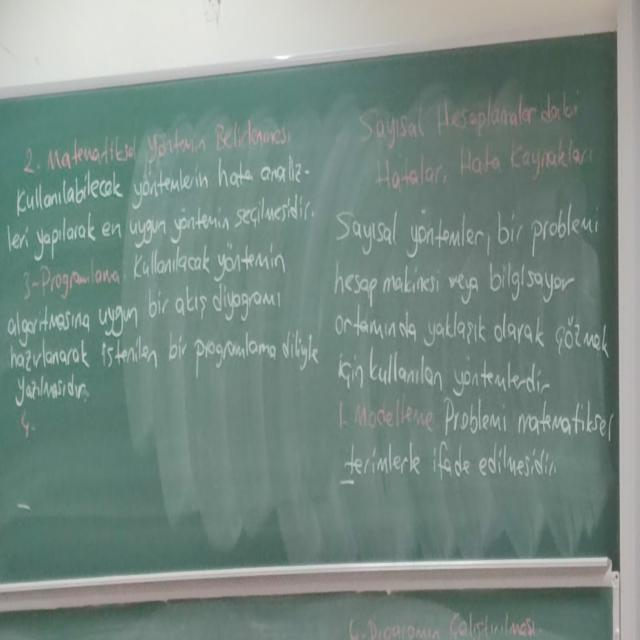text: (333, 204, 615, 502), (4, 183, 321, 422), (353, 92, 594, 188), (20, 119, 295, 180)
